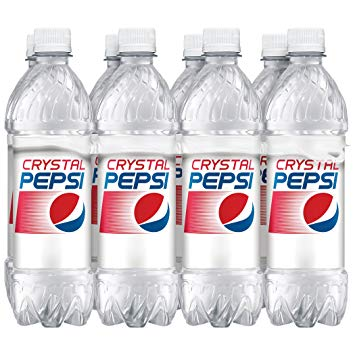pepsi: (132, 191, 169, 231), (49, 191, 85, 230), (218, 190, 253, 230), (302, 191, 337, 230), (51, 191, 85, 230)
